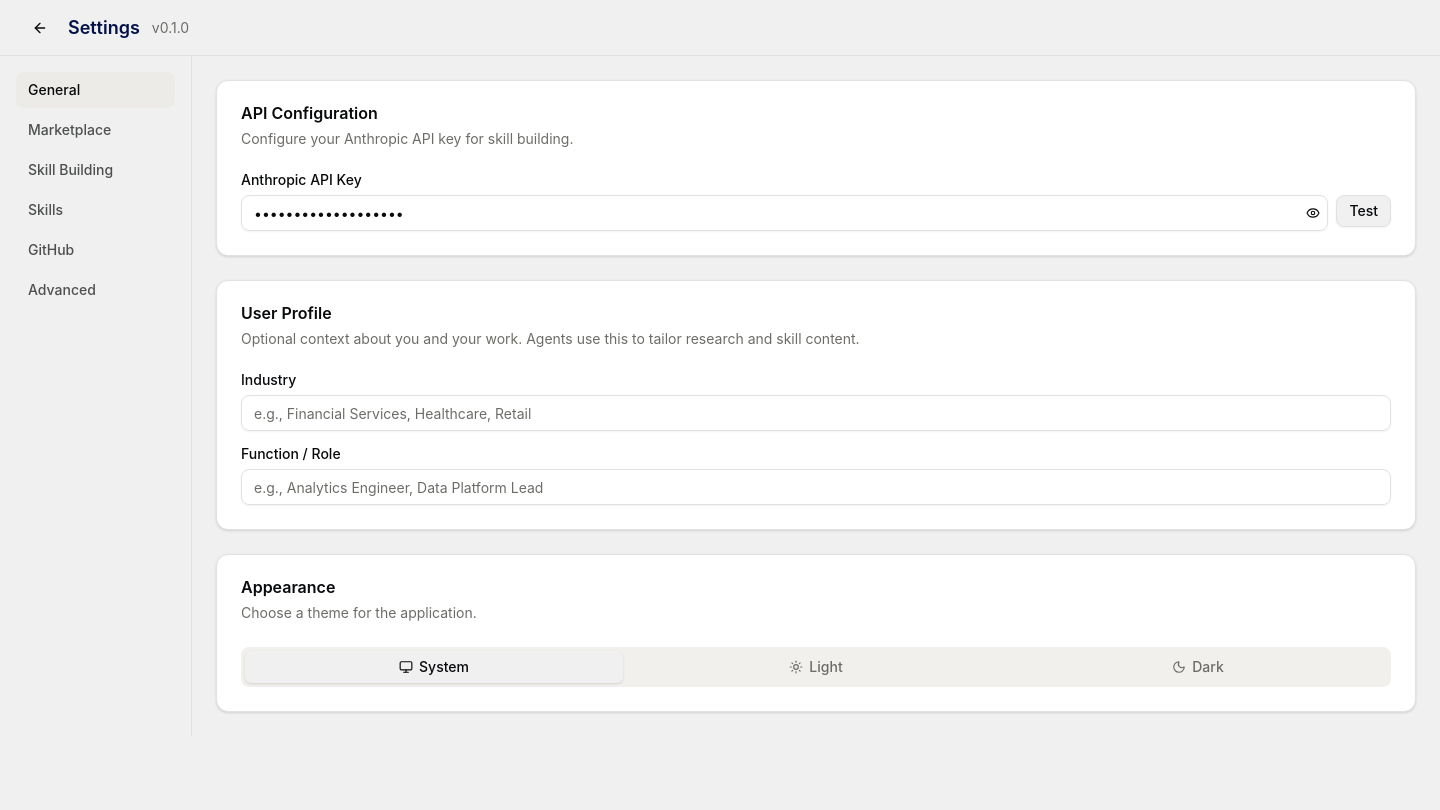
Test: SettingsPage › normalizes duplicate last segment from browse dialog
The width and height of the screenshot is (1440, 810).
Check: the heading "Settings" is shown, box [68,14,140,42]
Click the button "Advanced" at (96, 290), box [16,272,175,308]
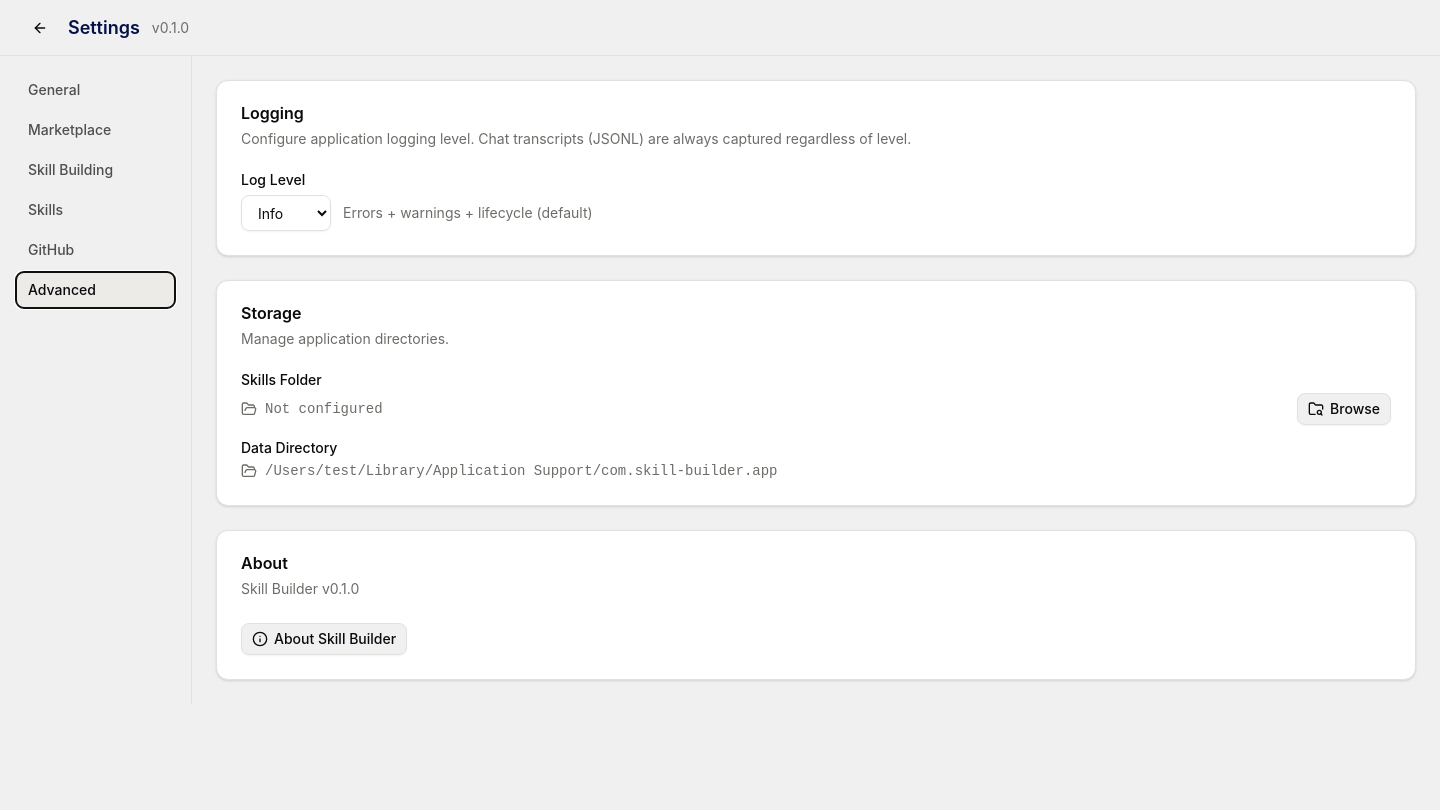
Click the button "Browse" at (1344, 409), box [1297,393,1391,425]
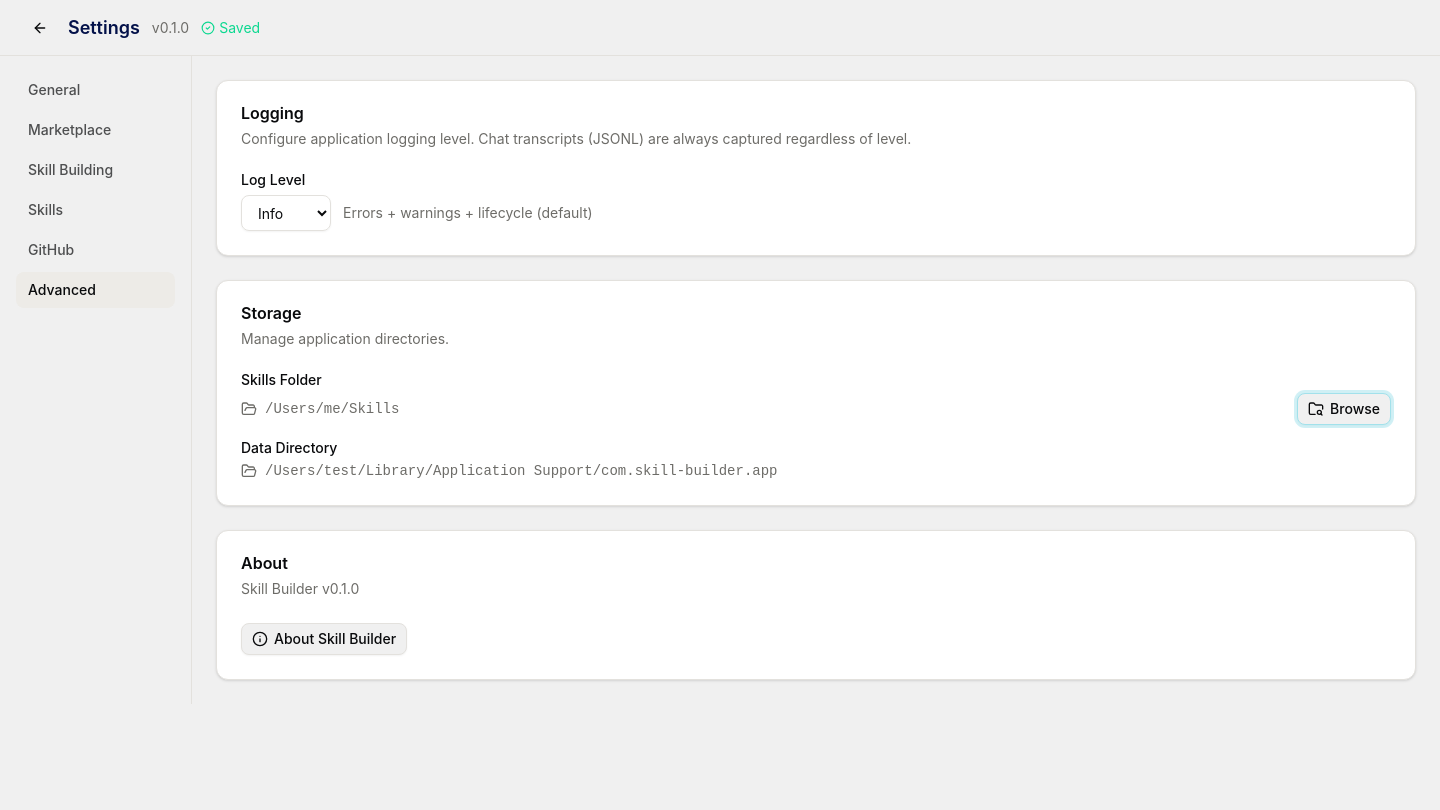
Check: the text "/Users/me/Skills" is shown, box [265,401,399,417]
